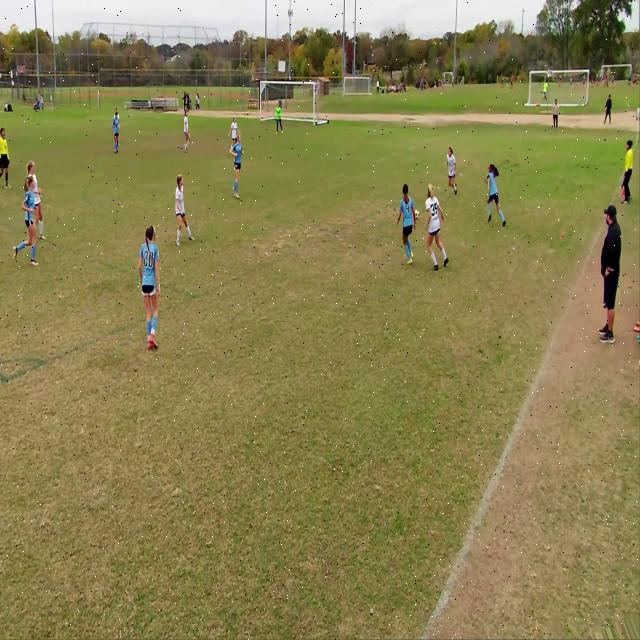GoalKeeper: (274, 100, 286, 137)
Referee: (619, 140, 636, 210), (0, 128, 12, 191)
TEAM 1: (137, 224, 163, 352), (17, 181, 40, 264), (398, 183, 418, 267), (486, 162, 506, 228), (232, 134, 245, 200)
TEAM 2: (424, 186, 448, 272), (173, 176, 194, 247), (447, 146, 460, 198), (111, 107, 121, 154), (25, 159, 38, 193), (230, 115, 240, 149), (182, 109, 190, 151)
